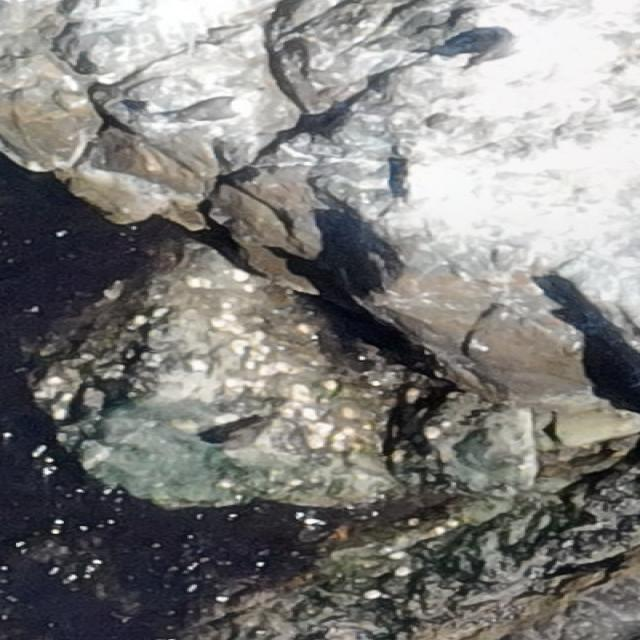umineko: (477, 26, 536, 70), (159, 94, 250, 122)
